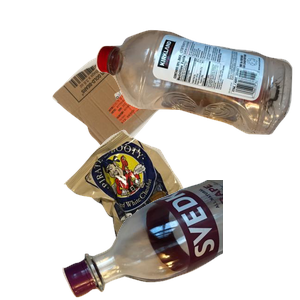cardboard: (50, 38, 233, 184)
glass: (60, 180, 300, 300)
plastic: (93, 27, 300, 154)
trash: (61, 127, 260, 300)
